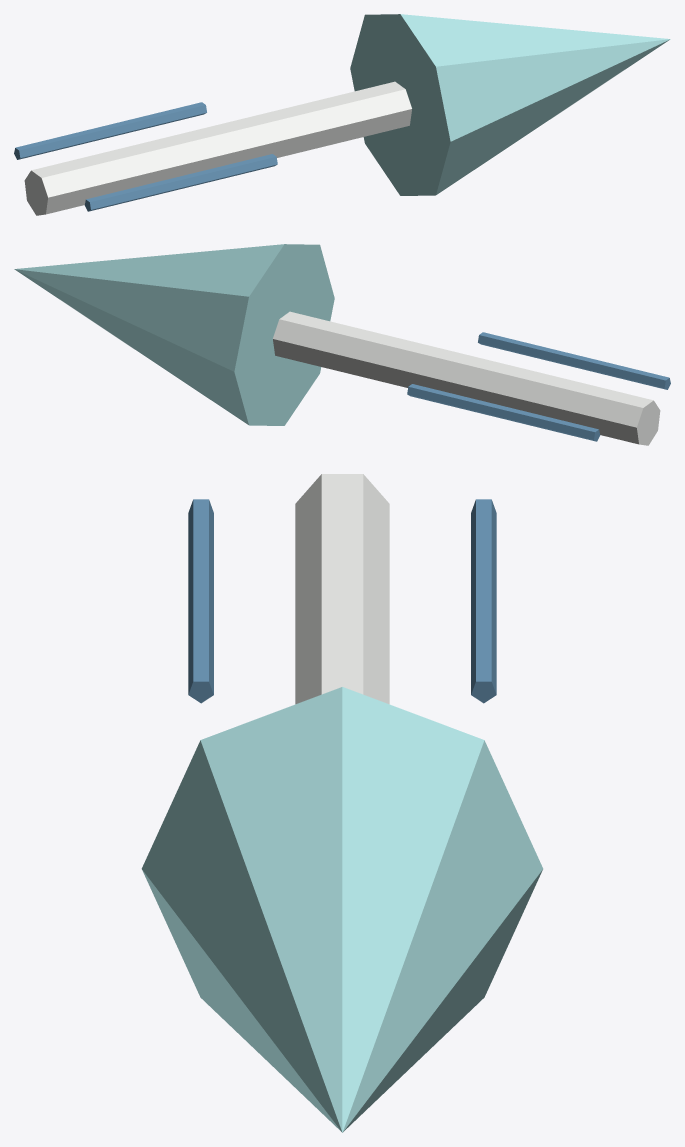
Rendered from flecha_viento.glb.
The picture shows the model from 3 angles, top to bottom: view 1: azimuth 30°, elevation 25°; view 2: azimuth 150°, elevation 25°; view 3: azimuth 270°, elevation 25°; orthographic projection. The views are drawn at different scales.
Visible parts, largest first — view 1: flecha_viento; view 2: flecha_viento; view 3: flecha_viento.
Part boxes in pixels (box(x1,y1,x2,y2)): flecha_viento: box(14, 14, 670, 215); flecha_viento: box(14, 244, 670, 445); flecha_viento: box(141, 474, 543, 1132).
Size of the model in its own units: 1.97 by 0.54 by 0.54.
